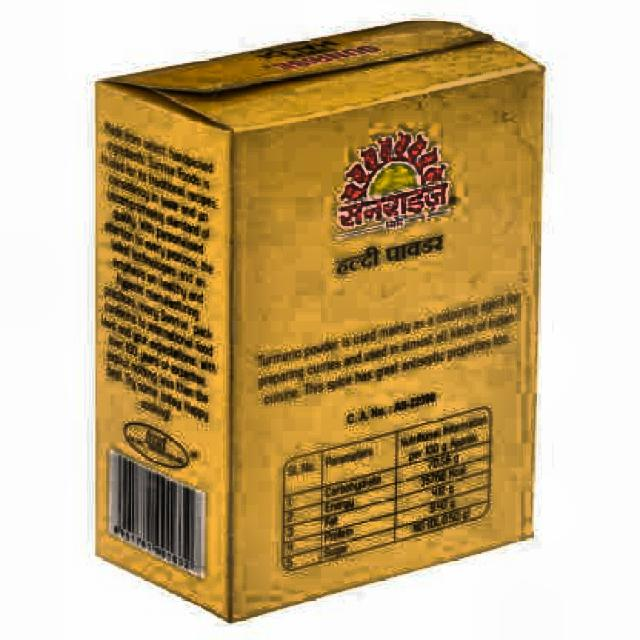Cardbox: (71, 11, 588, 626)
